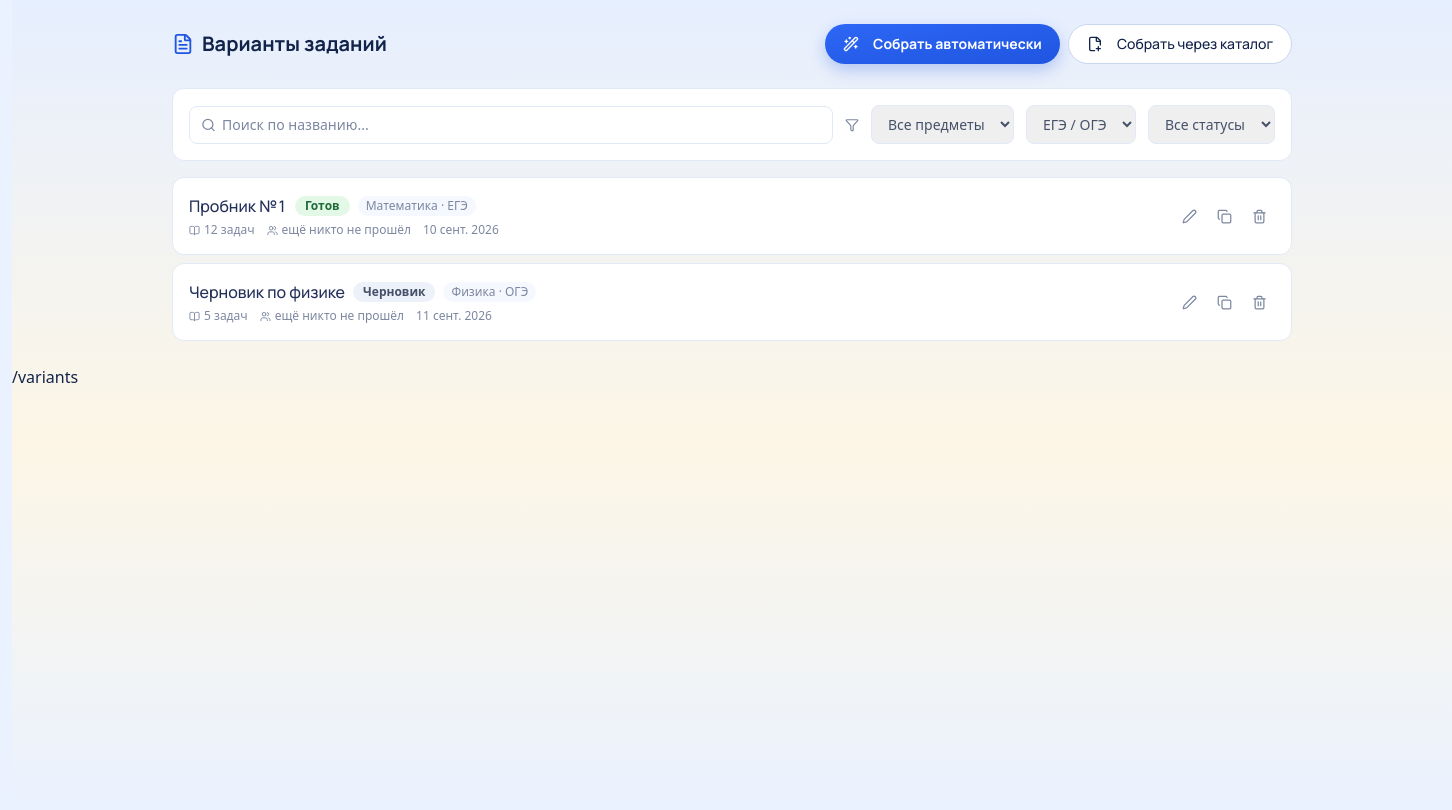
it: VariantsListPage — строка как цель клика (§200) › «Редактировать» ведёт в конструктор, а не в просмотр
Click the button named "Редактировать" in the row of "10 сент. 2026": (1190, 216) [1174, 200, 1205, 232]
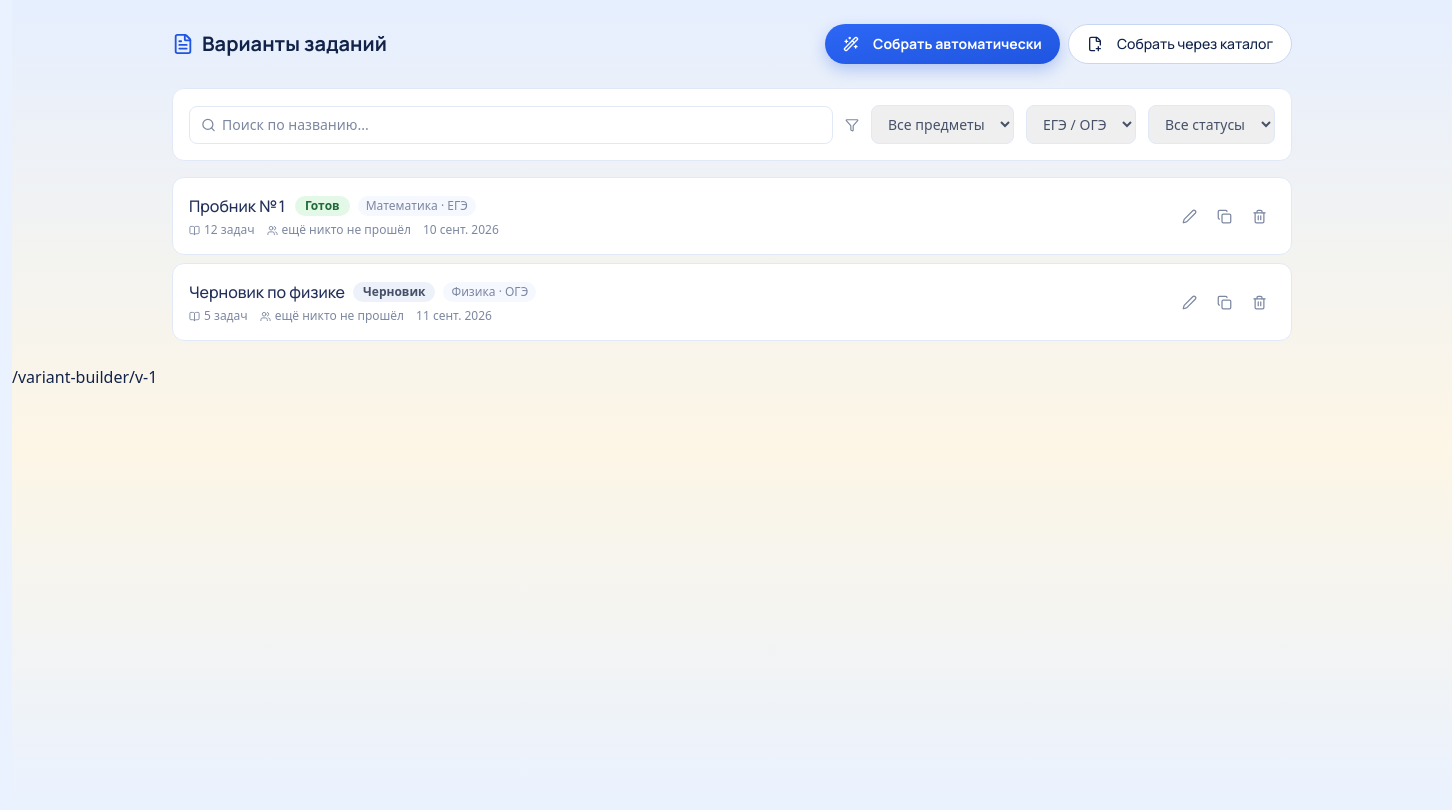
Check: the text with test id "location" reads "/variant-builder/v-1", box [12, 366, 157, 388]
